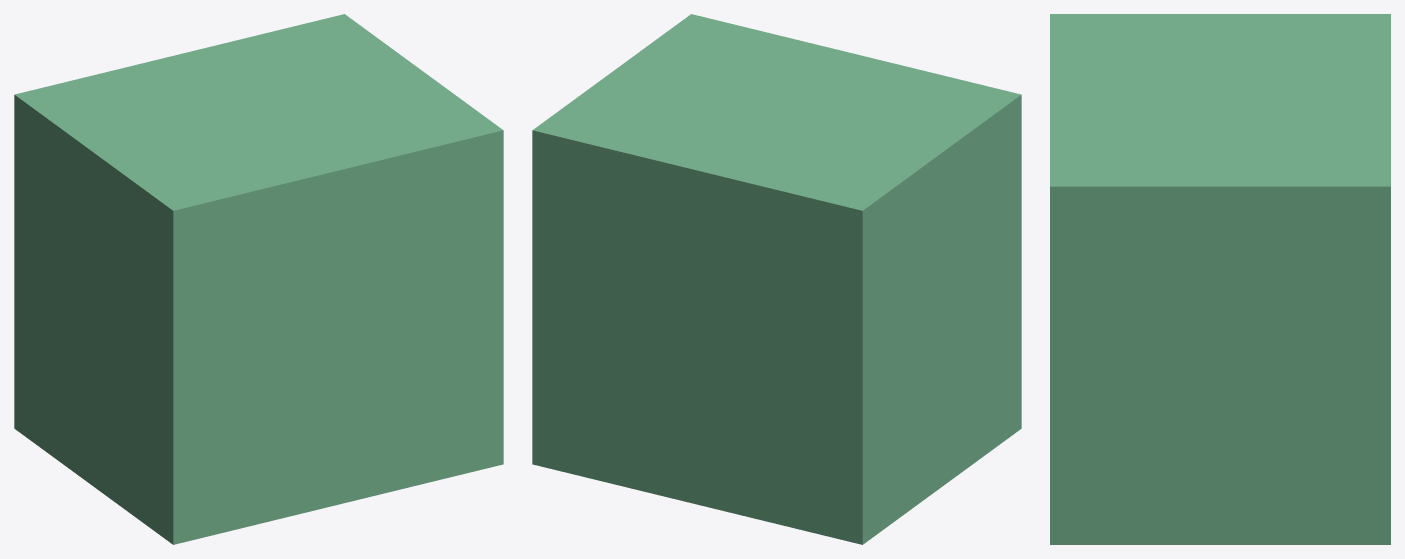
Rendered from cubicontainer.glb.
The picture shows the model from 3 angles, left to right: view 1: azimuth 30°, elevation 25°; view 2: azimuth 150°, elevation 25°; view 3: azimuth 270°, elevation 25°; orthographic projection. The views are drawn at different scales.
Size of the model in its own units: 1.2 by 1.16 by 1.
